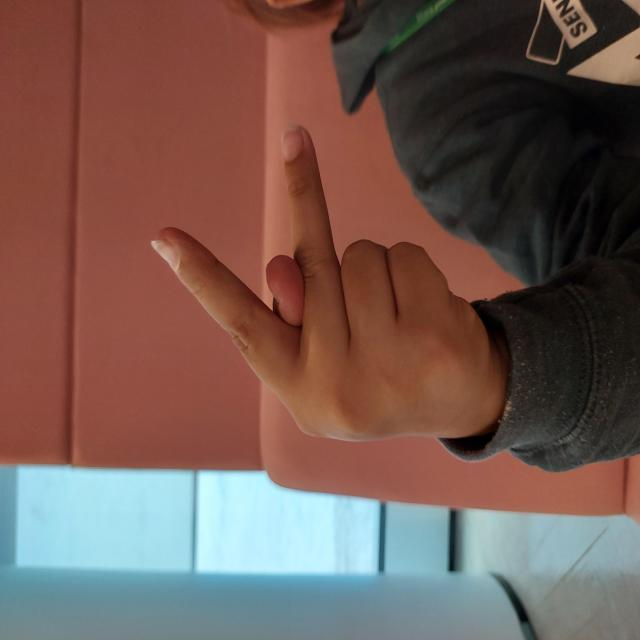K: (186, 143, 520, 497)
